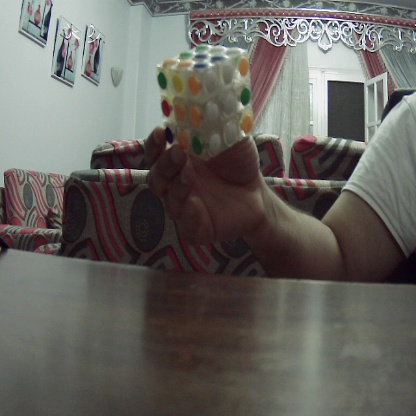Rubix Cube: (159, 45, 253, 153)
